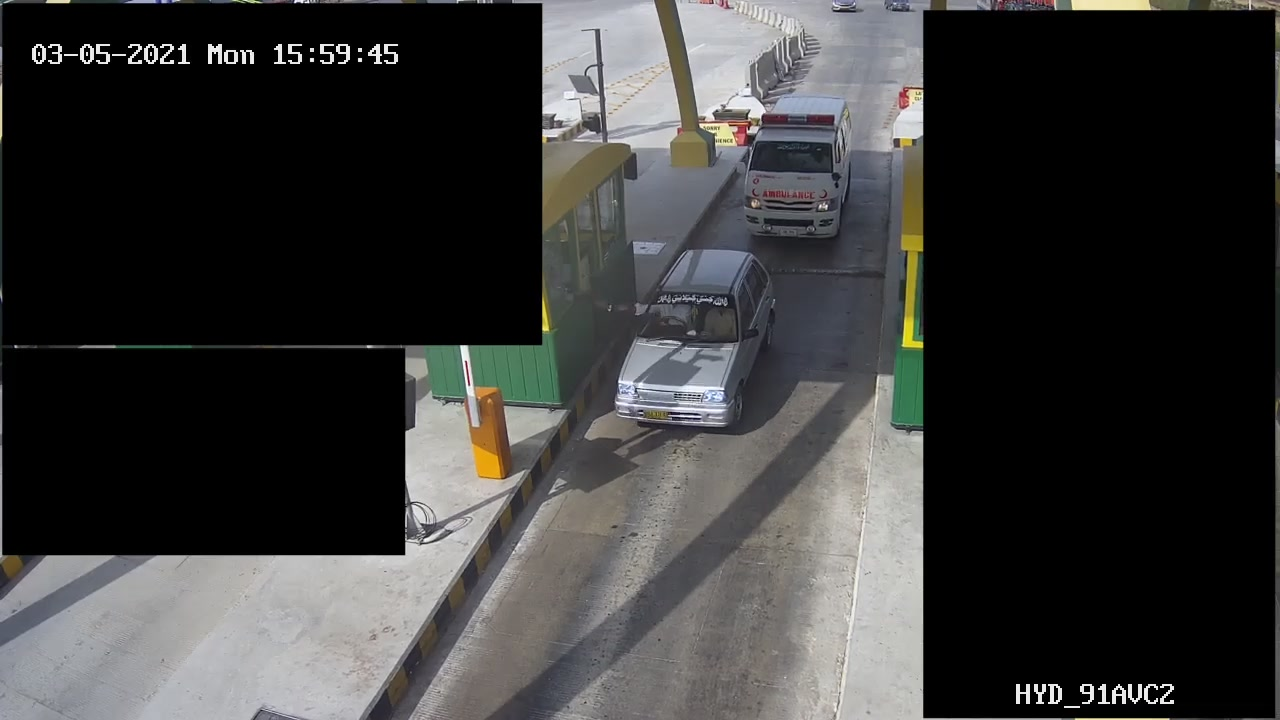F2: (737, 92, 854, 242)
